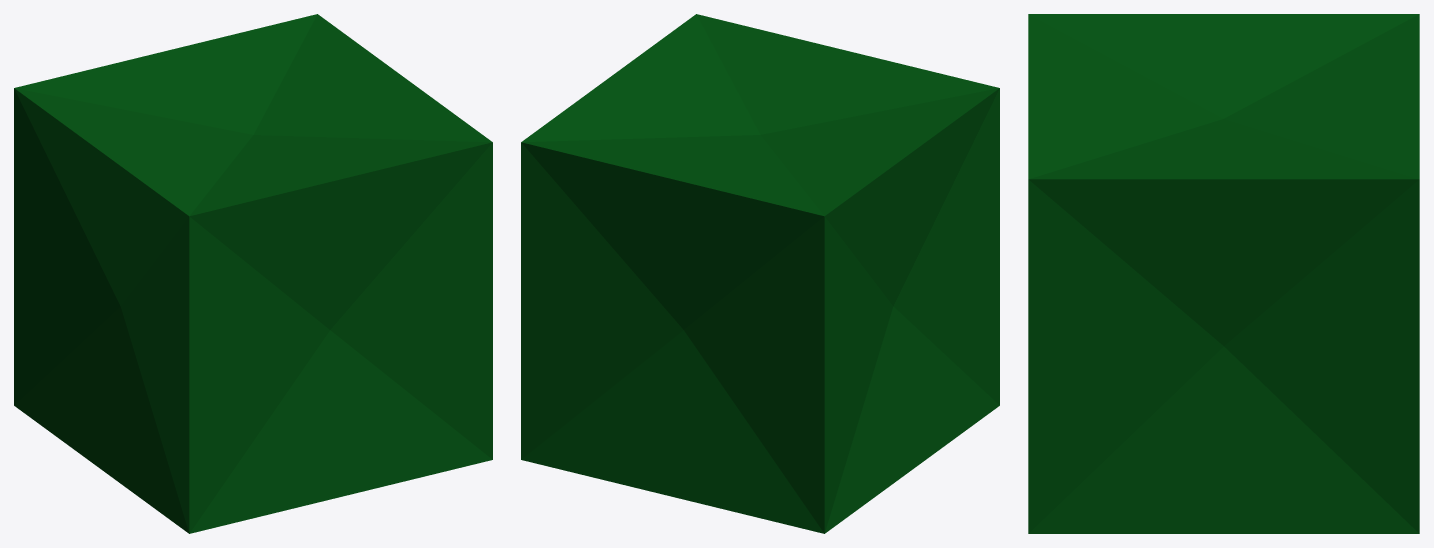
File: VehicleCore.gltf
3 views of the same model, side by side, from view 1: azimuth 30°, elevation 25°; view 2: azimuth 150°, elevation 25°; view 3: azimuth 270°, elevation 25° (orthographic). The views are drawn at different scales.
Parts seen in each view (by area): view 1: core; view 2: core; view 3: core.
Boxes of the visible parts, x1=… form: core: x1=14, y1=14, x2=492, y2=533; core: x1=521, y1=14, x2=999, y2=533; core: x1=1028, y1=14, x2=1419, y2=533.
Bounding box in the file's own units: 1 × 1 × 1.
